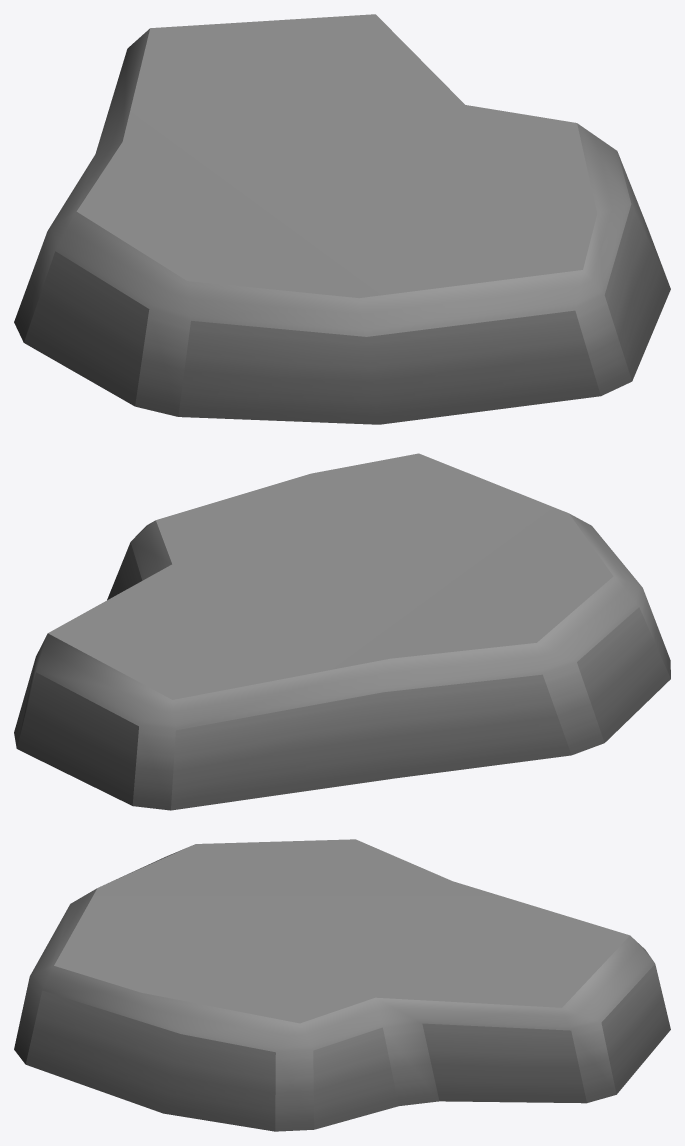
Rendered from Rock_3_A.fbx.
3 renders of one model, top to bottom at view 1: azimuth 30°, elevation 25°; view 2: azimuth 150°, elevation 25°; view 3: azimuth 270°, elevation 25°, orthographic. The views are drawn at different scales.
Visible parts, largest first — view 1: Rock_3_A; view 2: Rock_3_A; view 3: Rock_3_A.
Part boxes in pixels (x1=…): Rock_3_A: x1=14, y1=14, x2=670, y2=424; Rock_3_A: x1=14, y1=453, x2=670, y2=810; Rock_3_A: x1=14, y1=839, x2=670, y2=1131.
Bounding box in the file's own units: 82.83 × 14.4 × 99.31.
